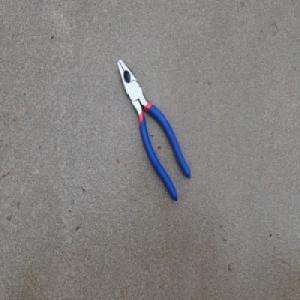Pliers: (117, 59, 191, 202)
